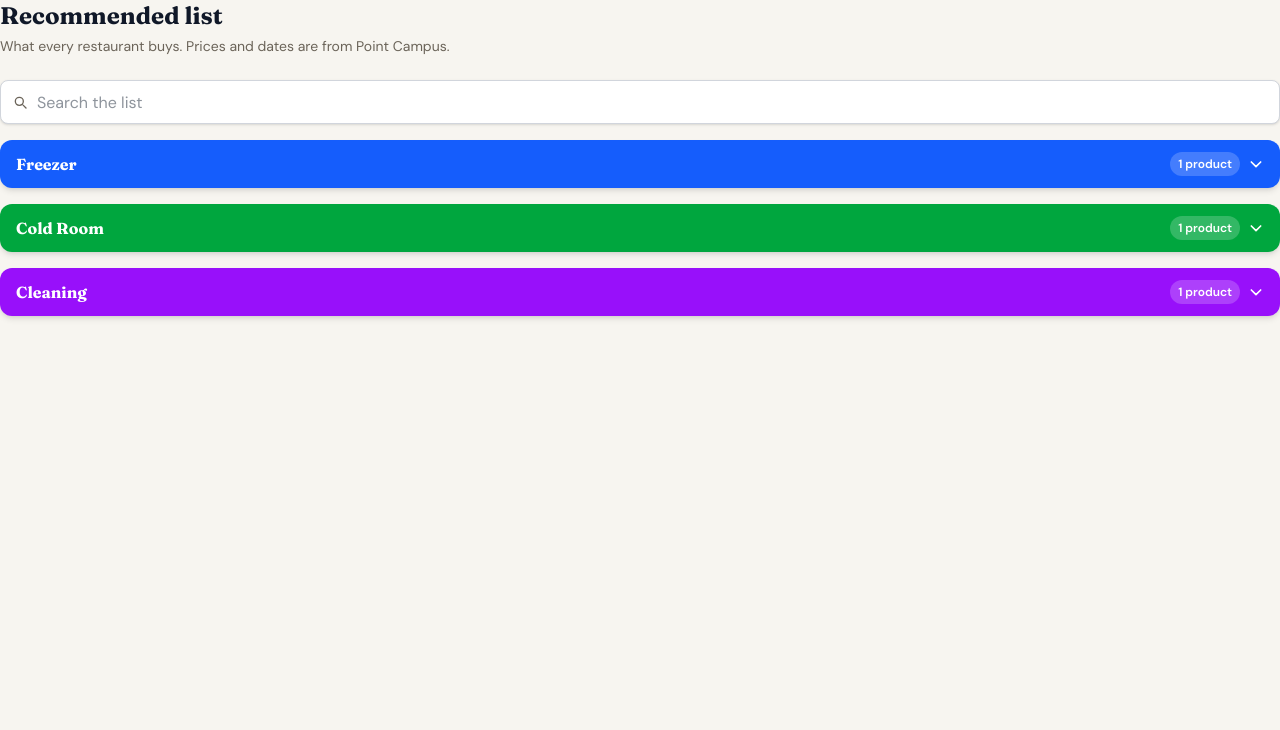
Test case: the Recommended list › opens every section a search finds something in
Expected: the button "Cold Room 1 product" is shown, [0,204,1279,252]
In the search field: (640, 102) [0,80,1279,124], type "peppers"
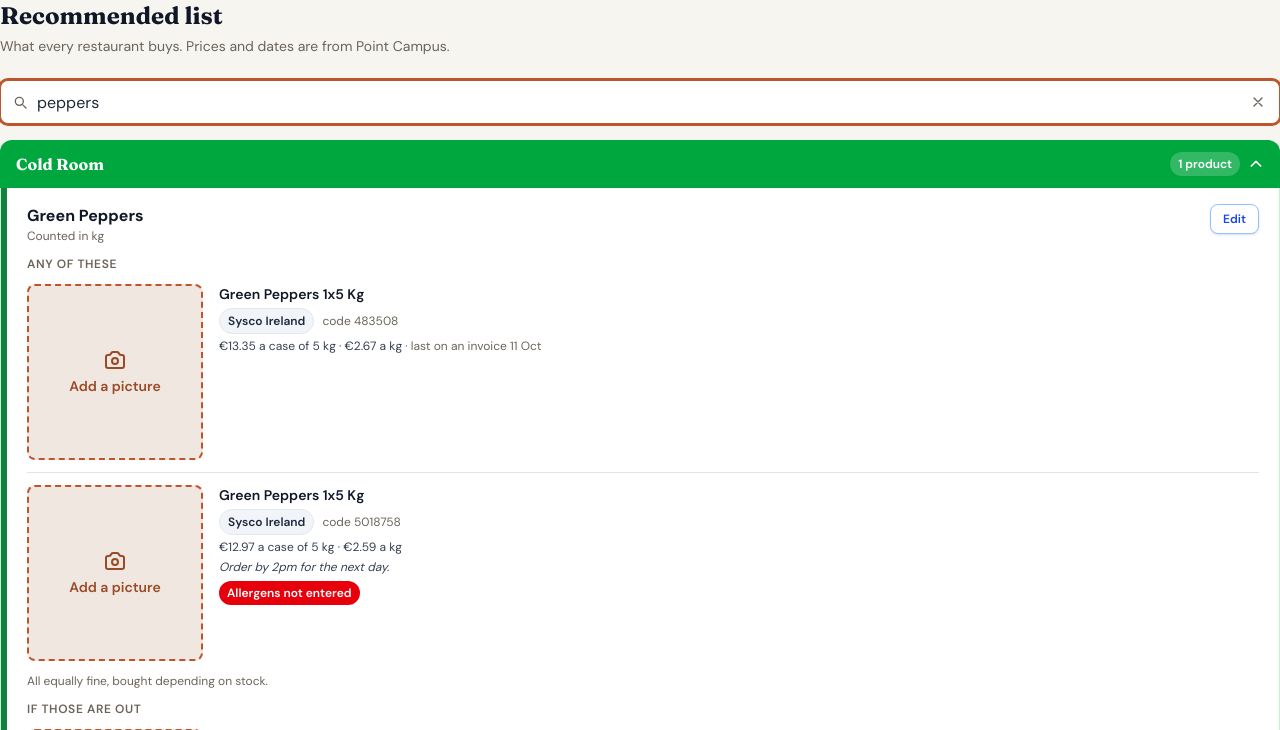
Result: the heading "Green Peppers" is shown at [27,204,144,228]
